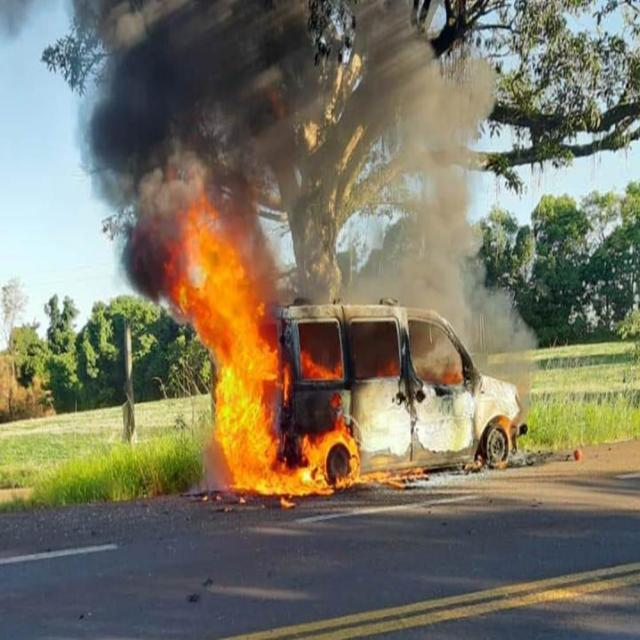Fire: (175, 194, 422, 498)
